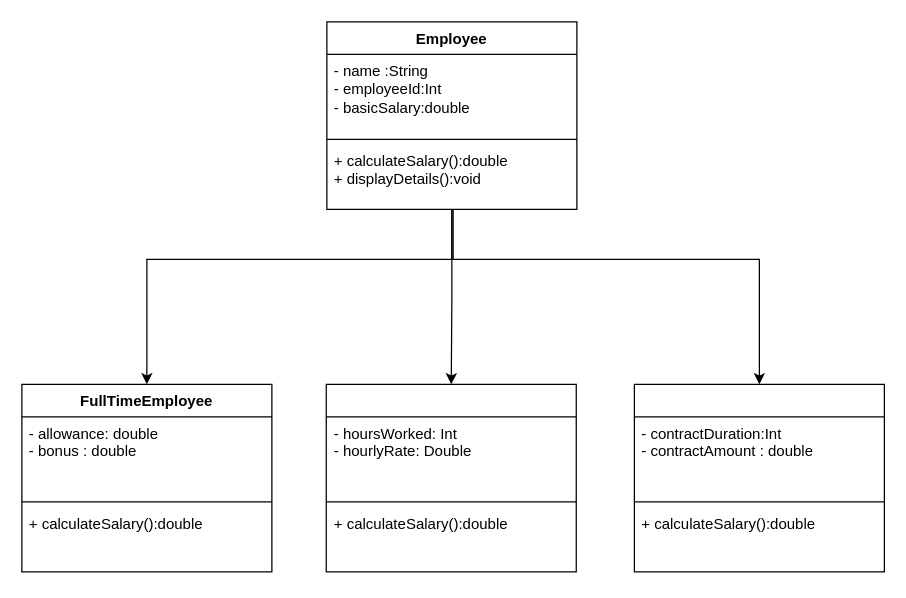
Some shapes in this 906 by 598 pixel diagram are drawn without their labels. The box of each missing label's shape, as (x1, y1, x2, y2) in pixels:
ContractEmployee: (633, 383, 884, 572)
PartTimeEmployee: (325, 383, 576, 572)
